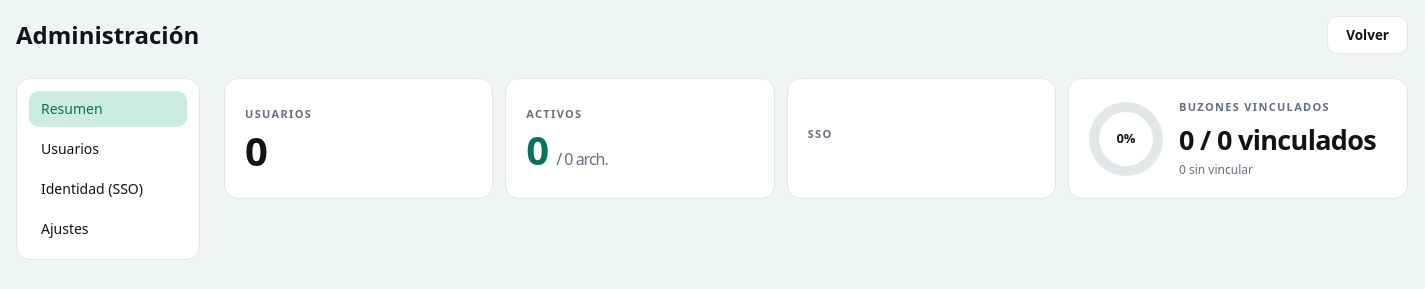
Test: AdminPage instance settings panel (GH #86) › shows an error message when saving fails
The width and height of the screenshot is (1425, 289).
What coordinates should you click on to do the following:
click the button "Ajustes"
I would click on:
 (108, 229)
Its box is [29, 211, 187, 247].
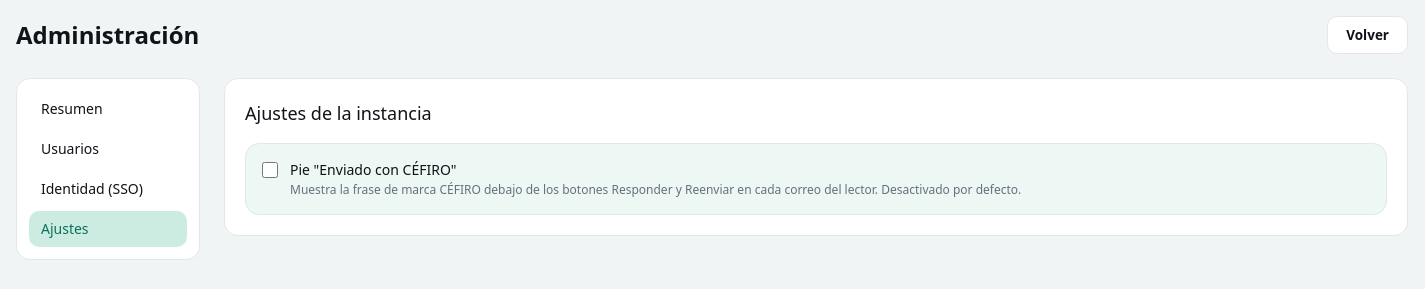
What coordinates should you click on to do the following:
click the checkbox labelled "Pie \"Enviado con CÉFIRO\""
I would click on:
 (270, 170)
Its box is [262, 162, 278, 178].
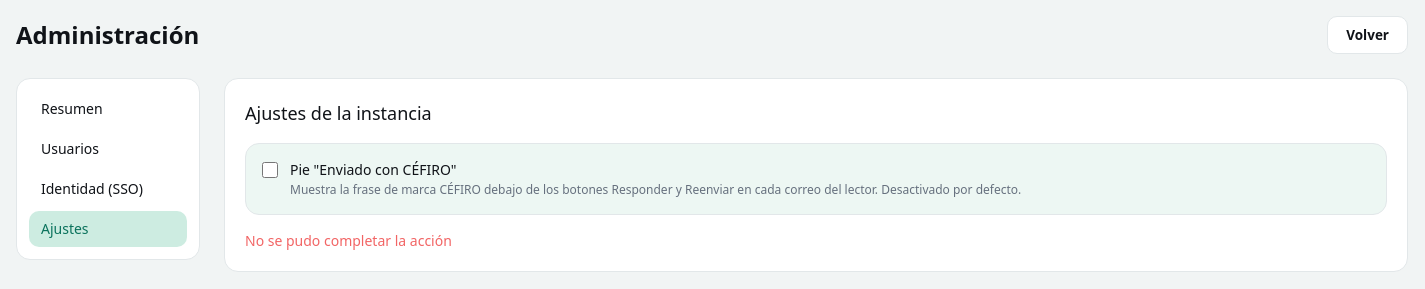
Expected: the text "No se pudo completar la acción" is shown, [245, 231, 452, 250]
